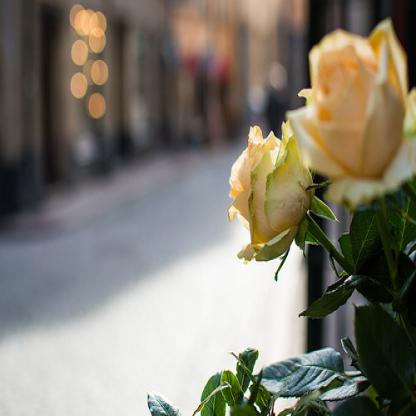ROSE-MAWAR: (209, 6, 416, 266)
